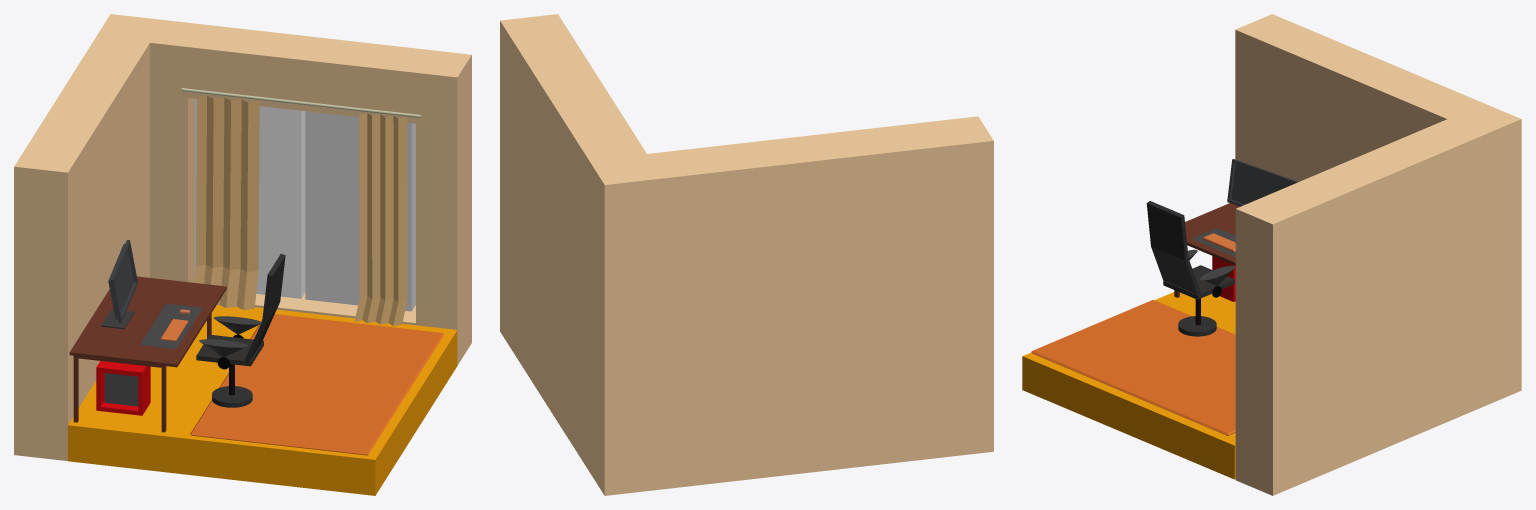
Rendered from FinalRoom.glb.
The picture shows the model from 3 angles, left to right: view 1: azimuth 30°, elevation 25°; view 2: azimuth 150°, elevation 25°; view 3: azimuth 270°, elevation 25°; orthographic projection. The views are drawn at different scales.
Visible parts, largest first — view 1: Wall, Floor, rug, Carpet2, window2, Carpet2.001, window, Table, Pc, keypad, ChairBody, Plane (+6 smaller); view 2: Wall; view 3: Wall, rug, Floor, ChairBody, Table, Screen, ChairBottom, Chairholder.
Boxes of the visible parts, x1,y1,x2,y2 form: Wall: (14, 14, 471, 460); Floor: (68, 304, 457, 495); rug: (190, 314, 444, 455); Carpet2: (194, 95, 259, 309); window2: (305, 111, 415, 311); Carpet2.001: (354, 112, 407, 325); window: (194, 99, 305, 298); Table: (69, 276, 226, 432); Pc: (96, 361, 150, 415); keypad: (140, 303, 202, 348); ChairBody: (244, 253, 285, 362); Plane: (104, 373, 138, 406); Wall: (500, 14, 993, 495); Wall: (1235, 14, 1521, 495); rug: (1031, 300, 1235, 435); Floor: (1022, 292, 1235, 479); ChairBody: (1146, 201, 1200, 294); Table: (1174, 203, 1239, 297); Screen: (1231, 163, 1294, 204); ChairBottom: (1163, 265, 1234, 299); Chairholder: (1178, 316, 1216, 336).
Bounding box in the file's own units: 3.32 × 2 × 3.33.
